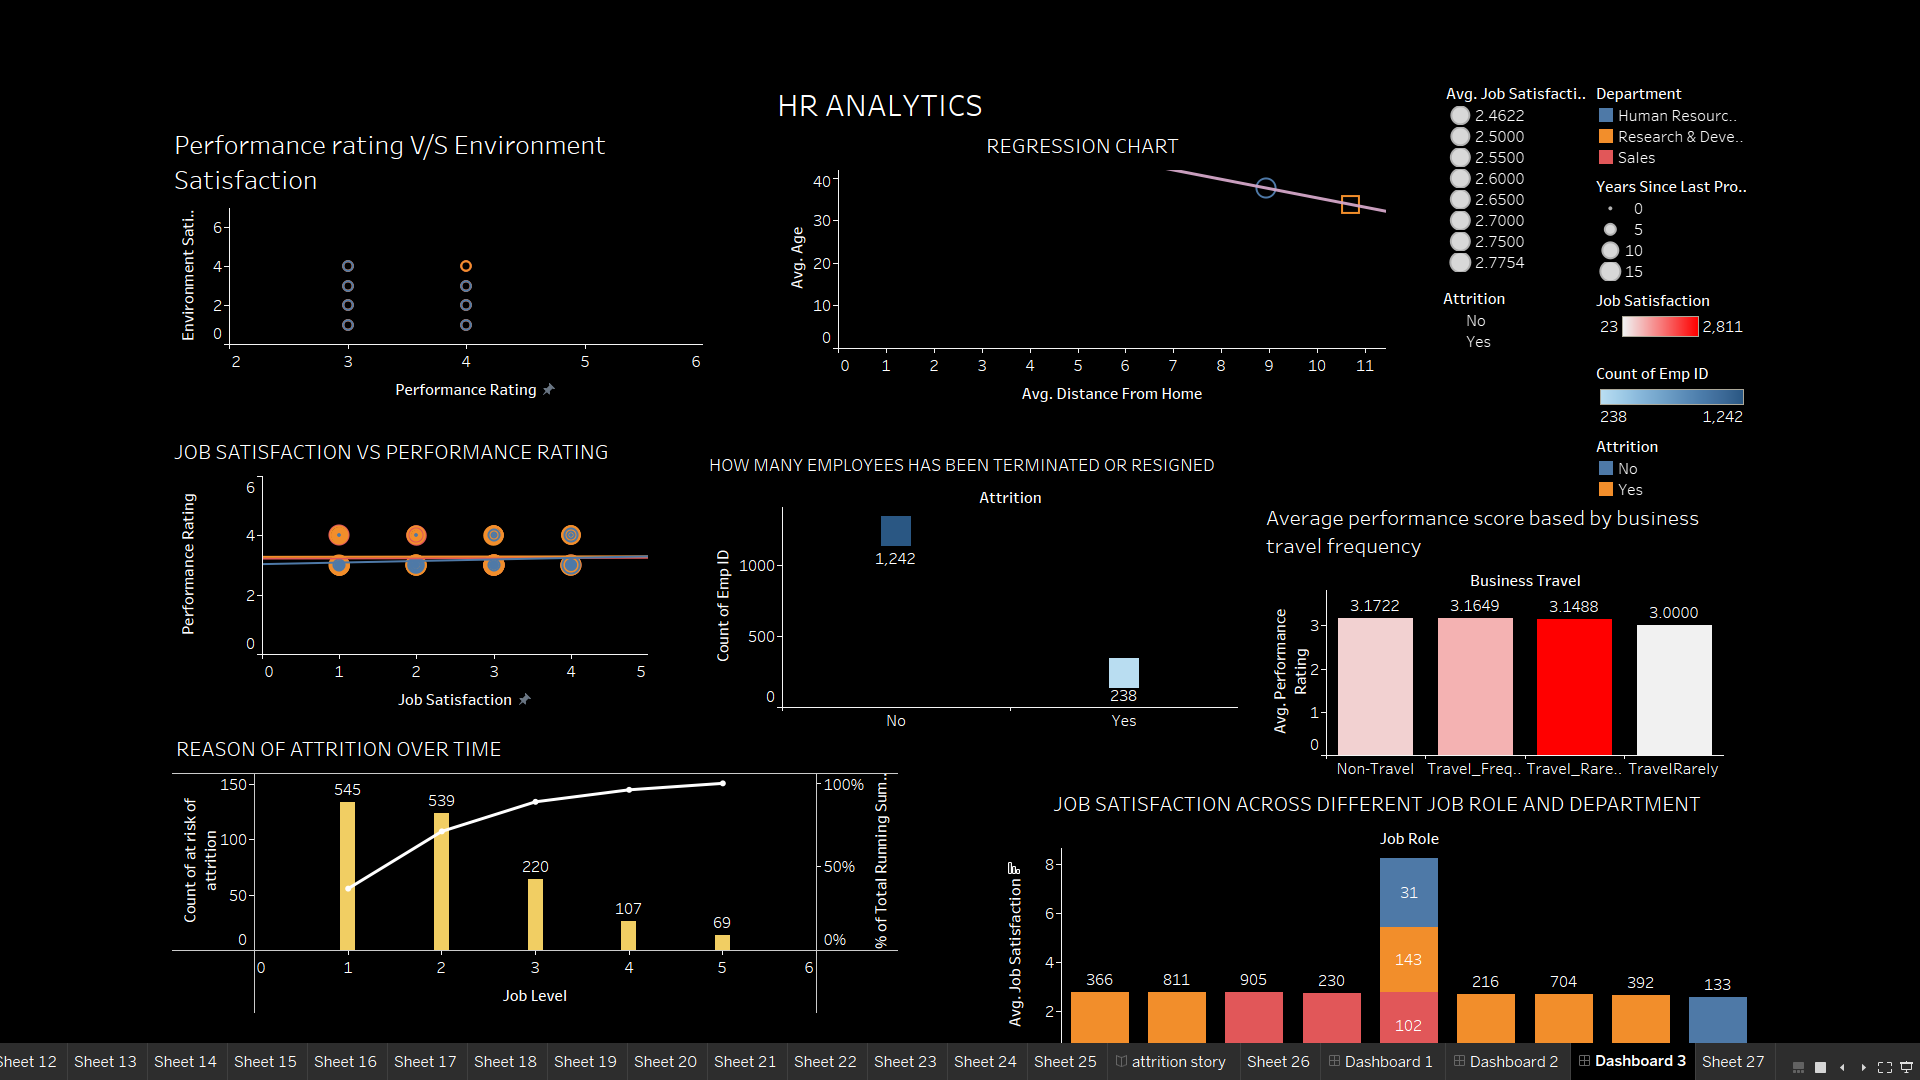

The page's visual inventory and layout, read from the dashboard file:
{"tool":"tableau","page":{"name":"Dashboard 3","canvas":[1600,900],"ordinal":2},"visuals":[{"type":"title","box":[8,8,1424,50]},{"type":"legend","title":"Sheet 19","param":"[federated.0s53l741spdg0w17kqey5028wboi].[none:Department:nk]","box":[1432,8,160,93]},{"type":"legend","title":"Sheet 26","param":"[federated.0s53l741spdg0w17kqey5028wboi].[avg:JobSatisfaction:qk]","box":[1286,12,140,190]},{"type":"worksheet","title":"Sheet 19","mark":"Automatic","rows":["EnvironmentSatisfaction"],"cols":["PerformanceRating"],"box":[10,52,533,284]},{"type":"worksheet","title":"Sheet 26","mark":"Automatic","rows":["Age"],"cols":["DistanceFromHome"],"box":[619,56,607,284]},{"type":"legend","title":"Sheet 21","param":"[federated.0s53l741spdg0w17kqey5028wboi].[none:YearsSinceLastPromotion:qk]","box":[1432,101,160,114]},{"type":"legend","title":"Sheet 23","param":"[federated.0s53l741spdg0w17kqey5028wboi].[sum:JobSatisfaction:qk]","box":[1432,215,160,73]},{"type":"legend","title":"Sheet 26","param":"[federated.0s53l741spdg0w17kqey5028wboi].[none:Attrition:nk]","box":[1283,217,140,64]},{"type":"legend","title":"Sheet 24","param":"[federated.0s53l741spdg0w17kqey5028wboi].[cnt:EmpID:qk]","box":[1432,288,160,73]},{"type":"legend","title":"Sheet 26","param":"[federated.0s53l741spdg0w17kqey5028wboi].[none:Attrition:nk]","box":[1432,361,160,72]},{"type":"worksheet","title":"Sheet 21","mark":"Automatic","rows":["PerformanceRating"],"cols":["JobSatisfaction"],"box":[10,362,478,284]},{"type":"worksheet","title":"Sheet 24","mark":"Square","rows":["EmpID"],"cols":["Attrition"],"box":[545,377,533,284]},{"type":"worksheet","title":"Sheet 23","mark":"Automatic","rows":["PerformanceRating"],"cols":["BusinessTravel"],"box":[1102,428,462,281]}]}

Visuals, with their boxes on the page's 1600x900 design canvas (x1, y1, x2, y2). These are canvas units, not pixel positions in the 1920x1080 screenshot, which may show the page scaled, cropped or inside an application window:
title: detection(8, 8, 1432, 58)
"Sheet 19" legend: detection(1432, 8, 1592, 101)
"Sheet 26" legend: detection(1286, 12, 1426, 202)
"Sheet 19" worksheet: detection(10, 52, 543, 336)
"Sheet 26" worksheet: detection(619, 56, 1226, 340)
"Sheet 21" legend: detection(1432, 101, 1592, 215)
"Sheet 23" legend: detection(1432, 215, 1592, 288)
"Sheet 26" legend: detection(1283, 217, 1423, 281)
"Sheet 24" legend: detection(1432, 288, 1592, 361)
"Sheet 26" legend: detection(1432, 361, 1592, 433)
"Sheet 21" worksheet: detection(10, 362, 488, 646)
"Sheet 24" worksheet (Square marks): detection(545, 377, 1078, 661)
"Sheet 23" worksheet: detection(1102, 428, 1564, 709)
